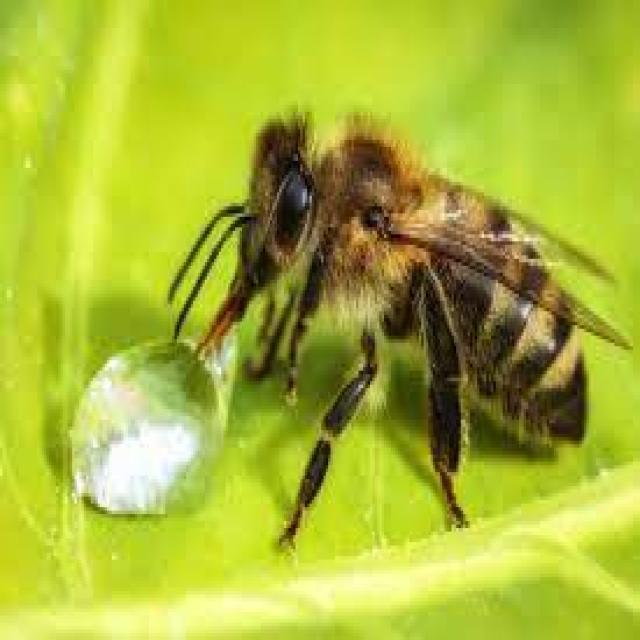Bees: (165, 107, 633, 550)
